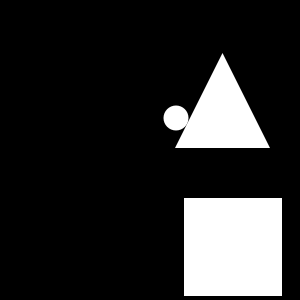circle: (184, 198, 282, 296)
rectangle: (164, 105, 188, 130)
triangle: (175, 53, 270, 148)
